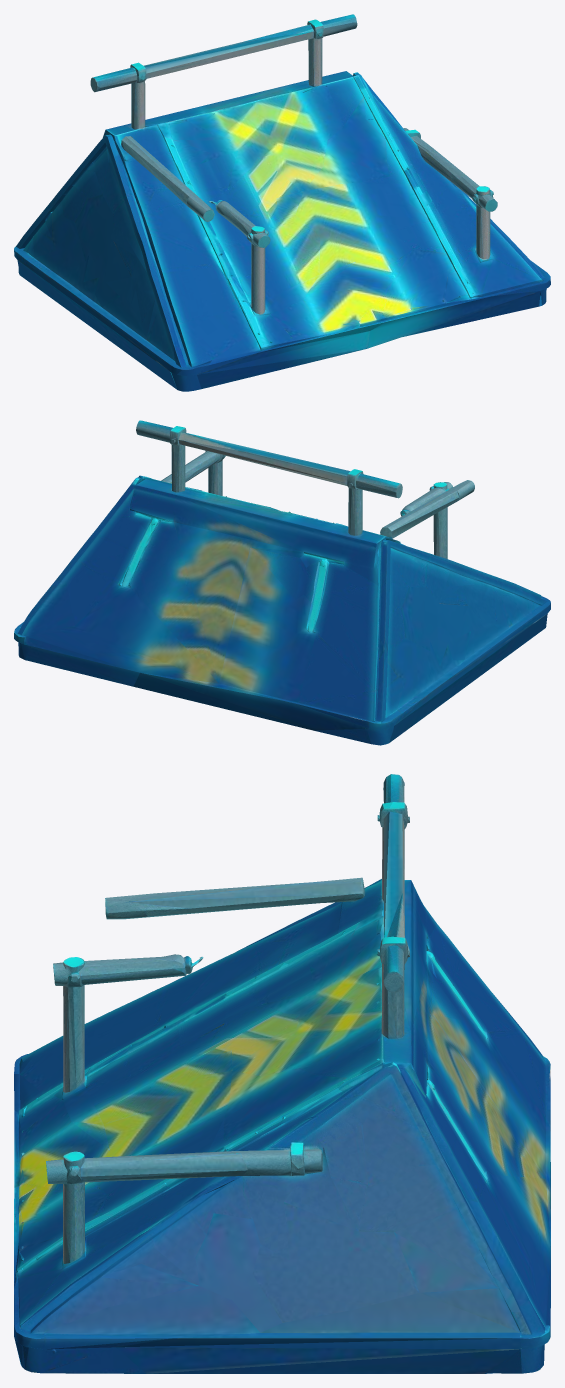
File: ramp.glb
3 views of the same model, one above another, from view 1: azimuth 30°, elevation 25°; view 2: azimuth 150°, elevation 25°; view 3: azimuth 270°, elevation 25° (orthographic). The views are drawn at different scales.
Bounding box in the file's own units: 1.9 × 1.07 × 1.5.
1 material, 1 textured.
